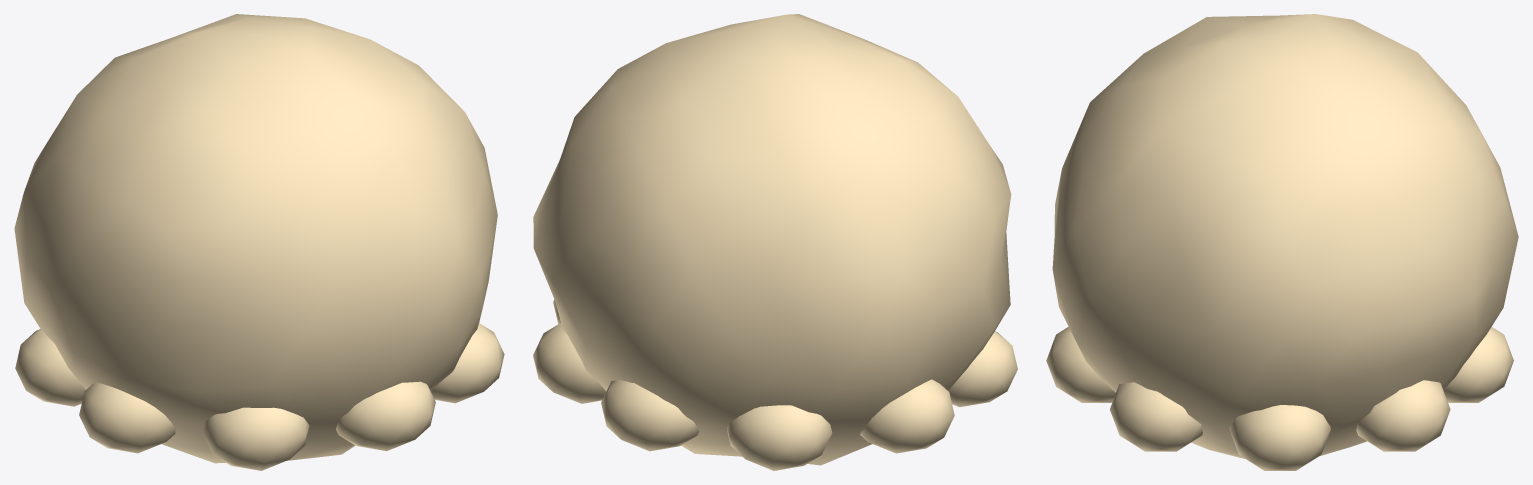
The model's file is Vanilla_scoop.fbx.
3 renders of one model, left to right at view 1: azimuth 30°, elevation 25°; view 2: azimuth 150°, elevation 25°; view 3: azimuth 270°, elevation 25°, orthographic.
Parts seen in each view (by area): view 1: Toon_Vanilla_scoop Vanilla scoop.001, Toon_Vanilla_scoop Ruffled scoop edge.015, Toon_Vanilla_scoop Ruffled scoop edge.016, Toon_Vanilla_scoop Ruffled scoop edge.014, Toon_Vanilla_scoop Ruffled scoop edge.013, Toon_Vanilla_scoop Ruffled scoop edge.017; view 2: Toon_Vanilla_scoop Vanilla scoop.001, Toon_Vanilla_scoop Ruffled scoop edge.012, Toon_Vanilla_scoop Ruffled scoop edge.011, Toon_Vanilla_scoop Ruffled scoop edge.013, Toon_Vanilla_scoop Ruffled scoop edge.010, Toon_Vanilla_scoop Ruffled scoop edge.014; view 3: Toon_Vanilla_scoop Vanilla scoop.001, Toon_Vanilla_scoop Ruffled scoop edge.009, Toon_Vanilla_scoop Ruffled scoop edge.010, Toon_Vanilla_scoop Ruffled scoop edge.017, Toon_Vanilla_scoop Ruffled scoop edge.011, Toon_Vanilla_scoop Ruffled scoop edge.016.
Part boxes in pixels (box(x1,y1,x2,y2)): Toon_Vanilla_scoop Vanilla scoop.001: box(14, 14, 497, 463); Toon_Vanilla_scoop Ruffled scoop edge.015: box(202, 407, 309, 470); Toon_Vanilla_scoop Ruffled scoop edge.016: box(336, 381, 435, 451); Toon_Vanilla_scoop Ruffled scoop edge.014: box(79, 382, 175, 453); Toon_Vanilla_scoop Ruffled scoop edge.013: box(15, 329, 85, 406); Toon_Vanilla_scoop Ruffled scoop edge.017: box(431, 323, 504, 403); Toon_Vanilla_scoop Vanilla scoop.001: box(533, 14, 1011, 465); Toon_Vanilla_scoop Ruffled scoop edge.012: box(727, 405, 832, 470); Toon_Vanilla_scoop Ruffled scoop edge.011: box(601, 379, 699, 451); Toon_Vanilla_scoop Ruffled scoop edge.013: box(860, 379, 954, 453); Toon_Vanilla_scoop Ruffled scoop edge.010: box(533, 323, 606, 403); Toon_Vanilla_scoop Ruffled scoop edge.014: box(948, 331, 1017, 407); Toon_Vanilla_scoop Vanilla scoop.001: box(1052, 14, 1518, 458); Toon_Vanilla_scoop Ruffled scoop edge.009: box(1229, 405, 1330, 470); Toon_Vanilla_scoop Ruffled scoop edge.010: box(1356, 380, 1450, 451); Toon_Vanilla_scoop Ruffled scoop edge.017: box(1110, 382, 1202, 451); Toon_Vanilla_scoop Ruffled scoop edge.011: box(1443, 327, 1513, 402); Toon_Vanilla_scoop Ruffled scoop edge.016: box(1046, 327, 1115, 402).
Size of the model in its own units: 10.56 by 9.6 by 10.18.
